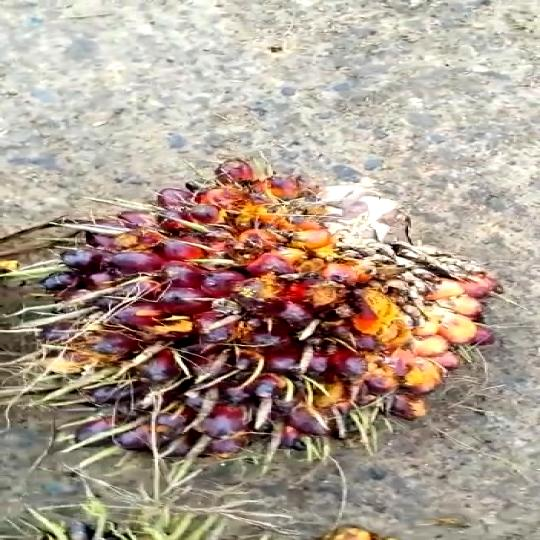masak: (0, 151, 533, 473)
